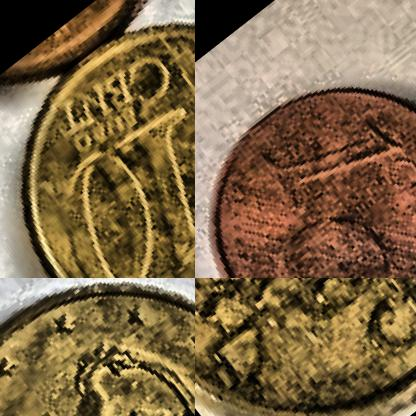coin: (195, 32, 415, 277), (0, 0, 194, 277), (195, 278, 415, 415), (0, 278, 194, 415)
